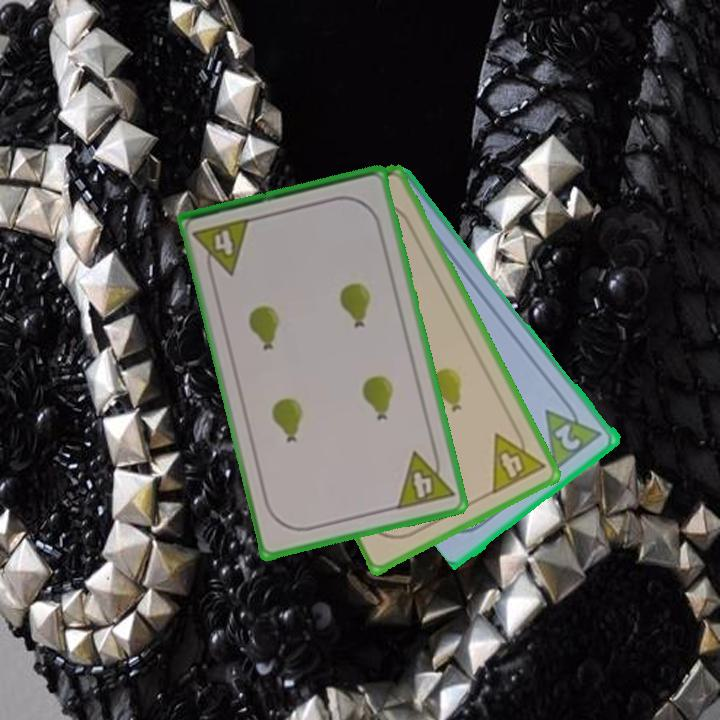2p: (551, 420, 585, 454)
4p: (488, 420, 548, 498), (393, 443, 457, 513), (190, 214, 254, 282)
